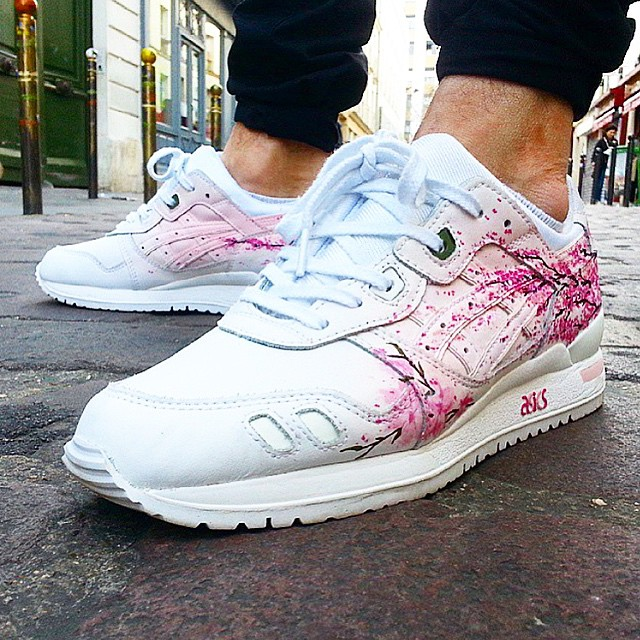sneaker: (28, 89, 640, 573), (29, 125, 353, 328)
